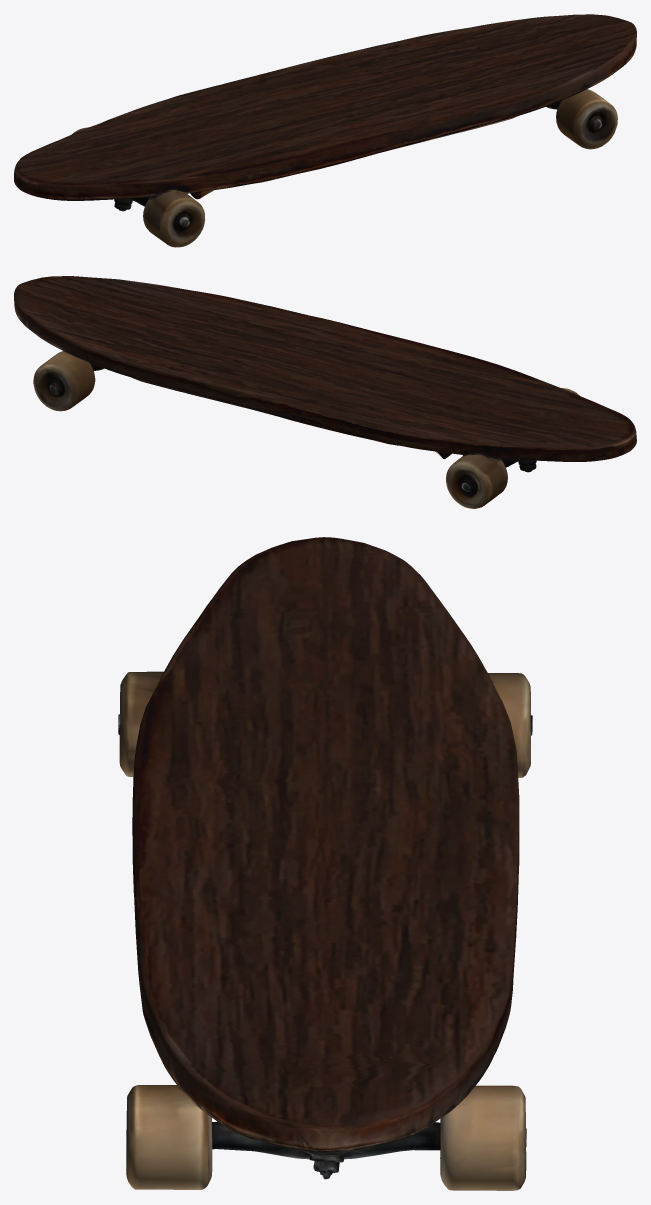
File: CCG_Deck_PawshionAvenue_web.glb
3 renders of one model, top to bottom at view 1: azimuth 30°, elevation 25°; view 2: azimuth 150°, elevation 25°; view 3: azimuth 270°, elevation 25°, orthographic. The views are drawn at different scales.
Visible parts, largest first — view 1: SM_Deck_PawshionAvenue; view 2: SM_Deck_PawshionAvenue; view 3: SM_Deck_PawshionAvenue.
Part boxes in pixels (box(x1,y1,x2,y2)): SM_Deck_PawshionAvenue: box(14, 14, 636, 247); SM_Deck_PawshionAvenue: box(14, 276, 636, 508); SM_Deck_PawshionAvenue: box(118, 537, 532, 1190).
Bounding box in the file's own units: 0.8198 × 0.09 × 0.2399.
Materials: 1 (1 with a texture image).
